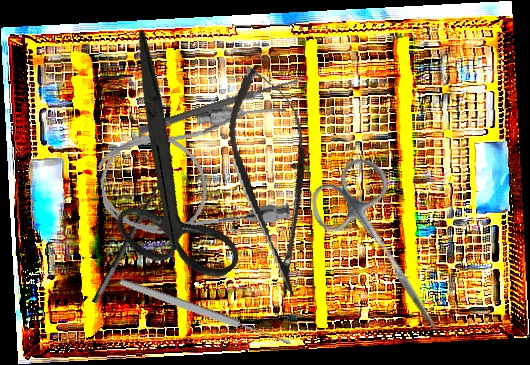Cannula: (92, 98, 302, 245)
Hook Surgical: (80, 147, 180, 306)
Iris Scissors: (28, 29, 305, 309), (299, 149, 476, 354)
Micro Scissor: (220, 59, 326, 303)
Surgical Spoon: (117, 276, 293, 349), (137, 73, 307, 136)
